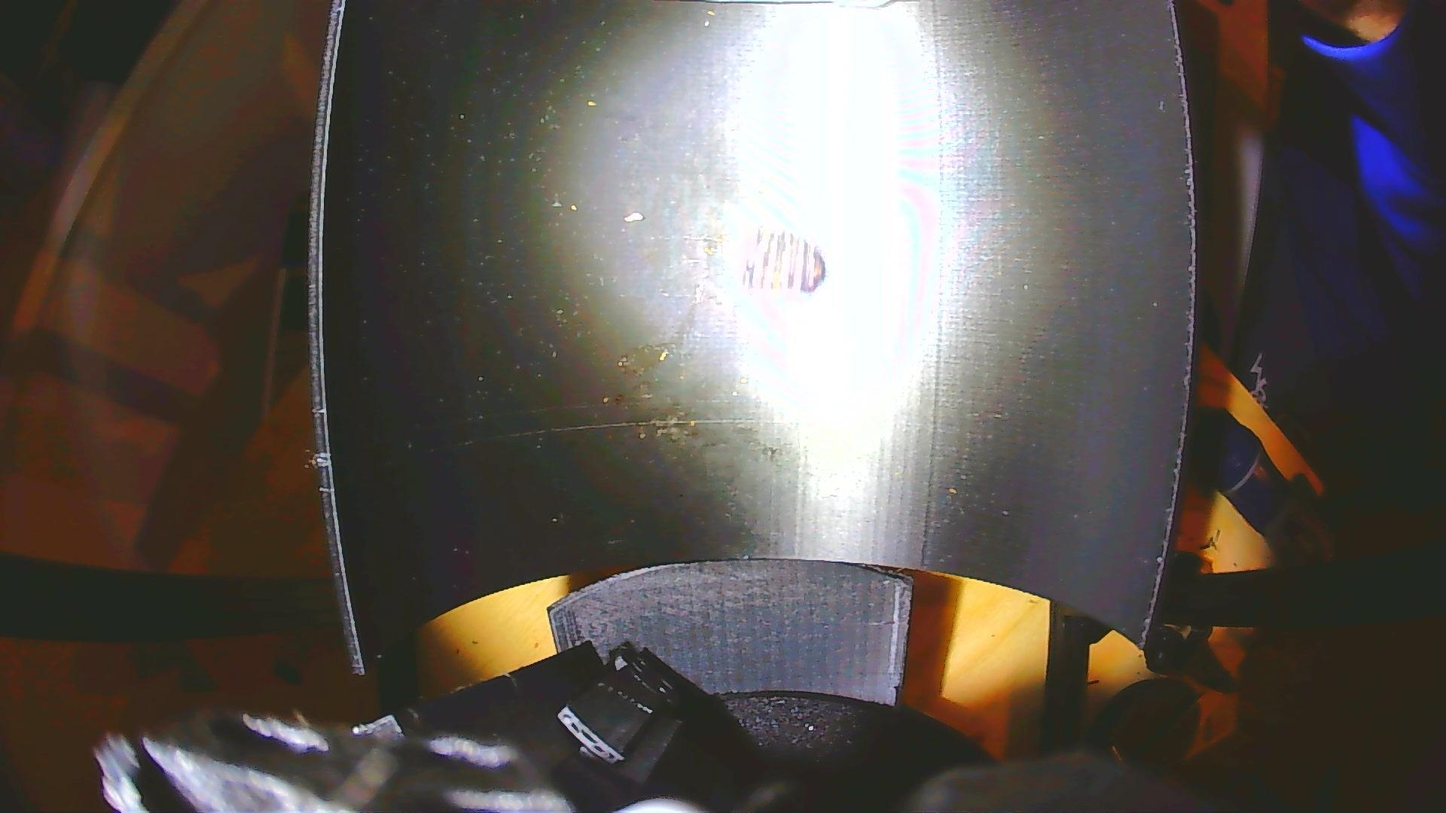berry: (740, 227, 827, 292)
